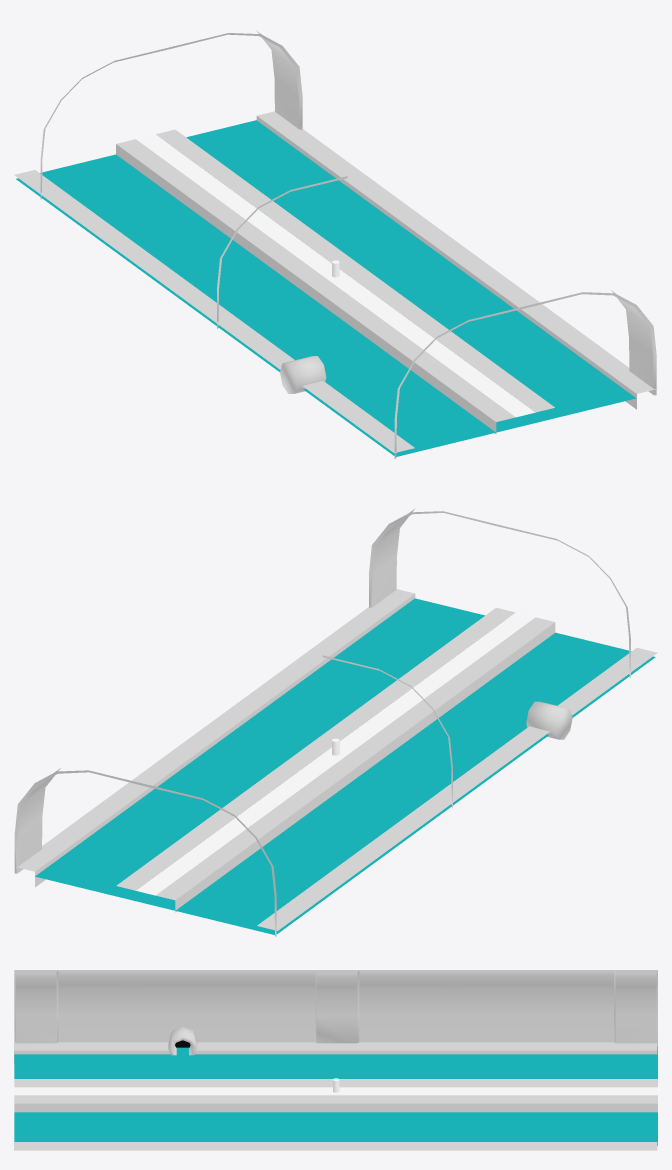
The model's file is SewerWall.glb.
The picture shows the model from 3 angles, top to bottom: view 1: azimuth 30°, elevation 25°; view 2: azimuth 150°, elevation 25°; view 3: azimuth 270°, elevation 25°; orthographic projection. The views are drawn at different scales.
Parts seen in each view (by area): view 1: Floor, Plane.001, MeshInstance3D4, MeshInstance3D3, MeshInstance3D2, Plane.003, Cylinder; view 2: Floor, Plane.001, MeshInstance3D4, MeshInstance3D3, MeshInstance3D2, Plane.003, Cylinder; view 3: Plane, Floor, Plane.001, MeshInstance3D3, Plane.003, MeshInstance3D2, MeshInstance3D4, Plane.002, Cylinder.
Part boxes in pixels (x1,y1,x2,y2): Floor: [16, 120, 636, 456]; Plane.001: [14, 111, 657, 452]; MeshInstance3D4: [116, 139, 515, 434]; MeshInstance3D3: [156, 129, 554, 412]; MeshInstance3D2: [136, 134, 535, 417]; Plane.003: [40, 30, 656, 458]; Cylinder: [280, 356, 326, 393]; Floor: [35, 598, 655, 935]; Plane.001: [16, 589, 657, 930]; MeshInstance3D4: [156, 617, 555, 912]; MeshInstance3D3: [116, 607, 515, 890]; MeshInstance3D2: [136, 612, 534, 895]; Plane.003: [14, 508, 630, 936]; Cylinder: [526, 701, 572, 739]; Plane: [14, 970, 657, 1045]; Floor: [14, 1046, 657, 1145]; Plane.001: [14, 1042, 657, 1150]; MeshInstance3D3: [14, 1095, 657, 1112]; Plane.003: [14, 970, 657, 1045]; MeshInstance3D2: [14, 1087, 657, 1095]; MeshInstance3D4: [14, 1079, 657, 1087]; Plane.002: [315, 970, 359, 1043]; Cylinder: [168, 1026, 197, 1055].
Bounding box in the file's own units: 40.97 × 18.95 × 100.
